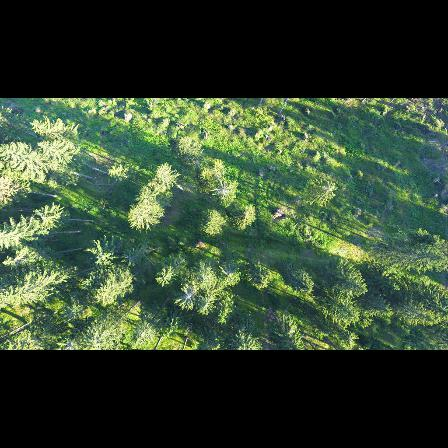Sick: (173, 286, 200, 307), (211, 179, 234, 202), (196, 293, 217, 314)
